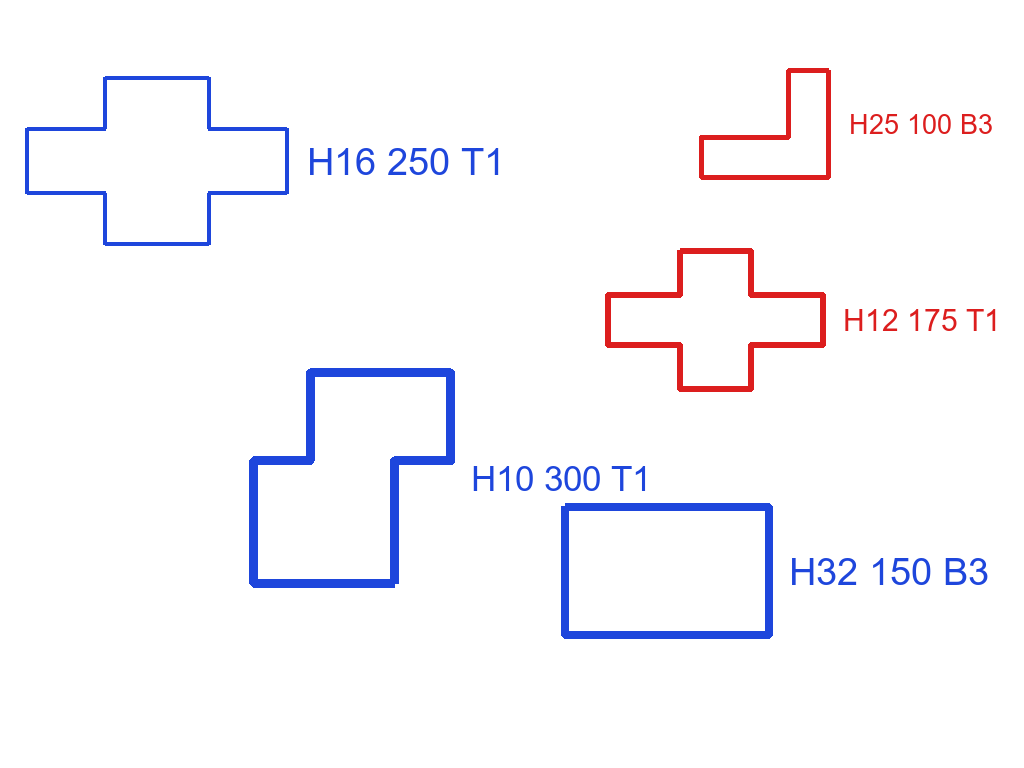shape: (247, 366, 457, 590), (24, 74, 291, 248), (604, 245, 828, 395), (560, 501, 775, 642), (697, 66, 833, 182)
text: (787, 556, 991, 587), (305, 146, 507, 177), (469, 464, 653, 493), (841, 307, 1003, 333), (847, 112, 995, 136)
